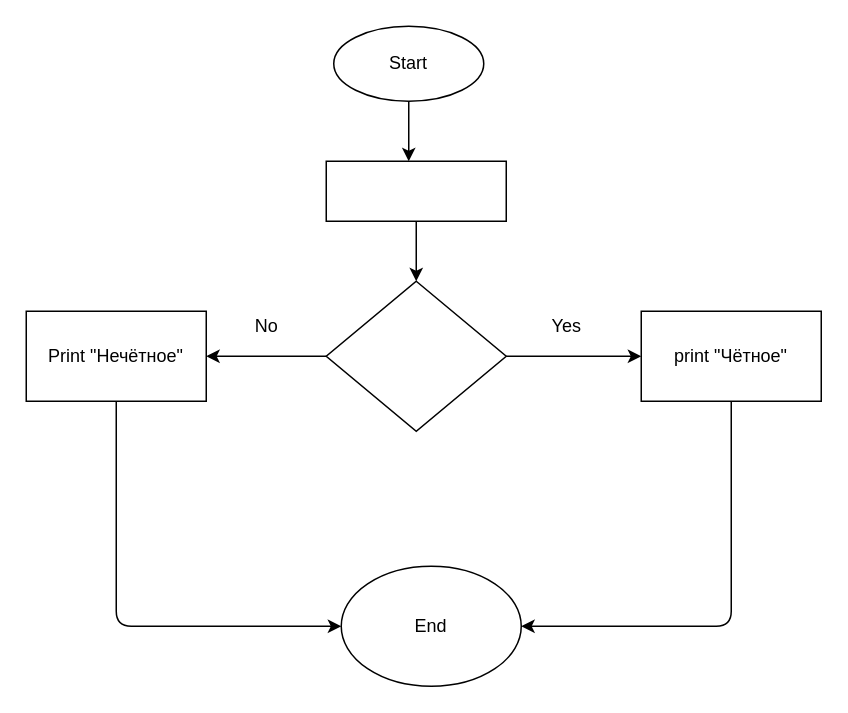
Some shapes in this 848 by 713 pixel diagram are drawn without their labels. The shapes that lost their labels are listed below. From the top down, each one's centre as x and y in pixels, then its label:
At (x=415, y=190): "input a".
At (x=415, y=355): "a % 2 == 0".
